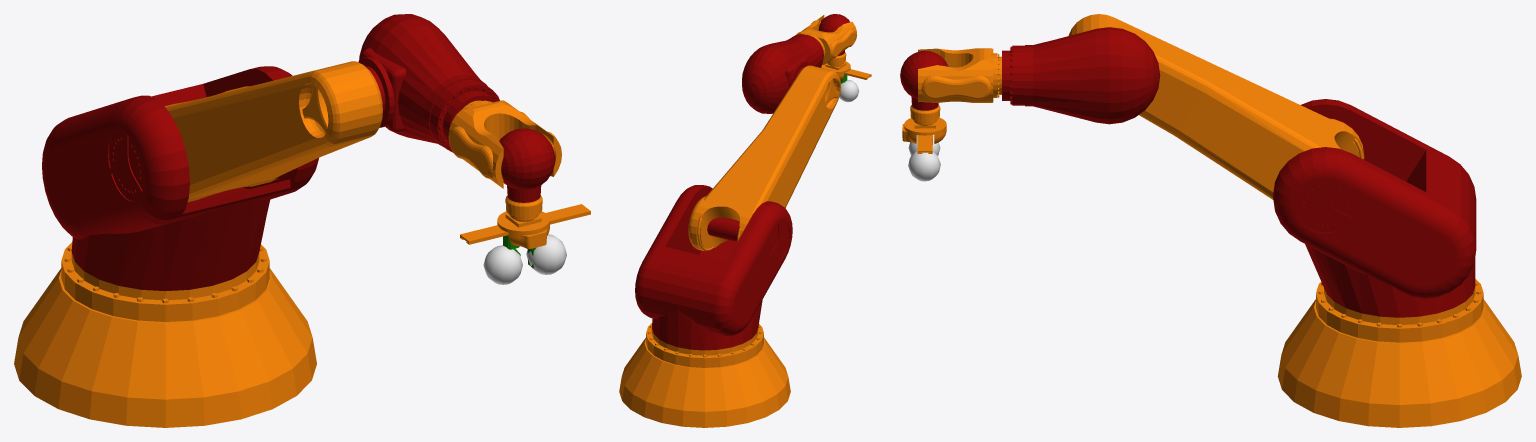
File: robot1.fbx
The picture shows the model from 3 angles, left to right: view 1: azimuth 30°, elevation 25°; view 2: azimuth 150°, elevation 25°; view 3: azimuth 270°, elevation 25°; orthographic projection. The views are drawn at different scales.
Visible parts, largest first — view 1: fix_base_ConvexHull, base_0_ConvexHull, arm_0_ConvexHull, arm_1_ConvexHull, Object001_ConvexHull, Object002_ConvexHull, Komponente_23_ConvexHull, Sphere002_Hidden, Sphere001_hidden; view 2: base_0_ConvexHull, fix_base_ConvexHull, arm_0_ConvexHull, arm_1_ConvexHull, Object001_ConvexHull, Komponente_23_ConvexHull, Object002_ConvexHull, Sphere002_Hidden; view 3: base_0_ConvexHull, fix_base_ConvexHull, arm_0_ConvexHull, arm_1_ConvexHull, Object001_ConvexHull, Komponente_23_ConvexHull, Object002_ConvexHull, Sphere001_hidden.
Part boxes in pixels (x1,y1,x2,y2): fix_base_ConvexHull: (14, 242, 316, 427); base_0_ConvexHull: (42, 66, 318, 291); arm_0_ConvexHull: (164, 61, 382, 202); arm_1_ConvexHull: (358, 14, 499, 152); Object001_ConvexHull: (448, 100, 561, 188); Object002_ConvexHull: (499, 128, 555, 202); Komponente_23_ConvexHull: (460, 195, 590, 248); Sphere002_Hidden: (483, 245, 522, 284); Sphere001_hidden: (526, 234, 566, 274); base_0_ConvexHull: (635, 185, 792, 350); fix_base_ConvexHull: (619, 323, 790, 427); arm_0_ConvexHull: (688, 65, 840, 250); arm_1_ConvexHull: (742, 34, 823, 113); Object001_ConvexHull: (796, 15, 856, 64); Komponente_23_ConvexHull: (821, 52, 871, 80); Object002_ConvexHull: (818, 14, 849, 55); Sphere002_Hidden: (839, 80, 858, 102); base_0_ConvexHull: (1273, 99, 1476, 317); fix_base_ConvexHull: (1277, 279, 1521, 427); arm_0_ConvexHull: (1068, 14, 1364, 199); arm_1_ConvexHull: (1002, 27, 1160, 124); Object001_ConvexHull: (918, 48, 1001, 102); Komponente_23_ConvexHull: (902, 105, 946, 153); Object002_ConvexHull: (900, 50, 948, 110); Sphere001_hidden: (908, 150, 940, 181).
Size of the model in its own units: 45.83 by 117 by 77.02.
